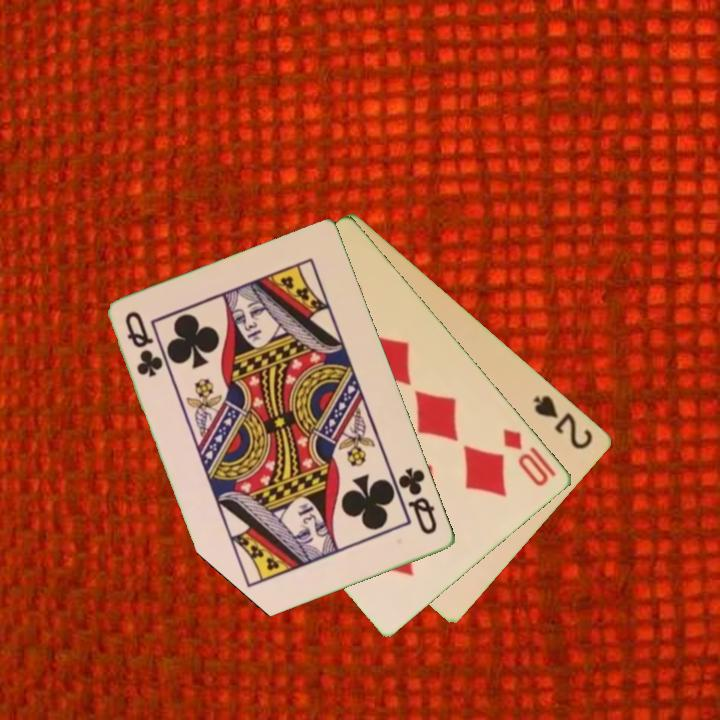10d: (499, 424, 553, 490)
2s: (530, 391, 597, 453)
Qc: (395, 464, 441, 538), (122, 307, 166, 381)
